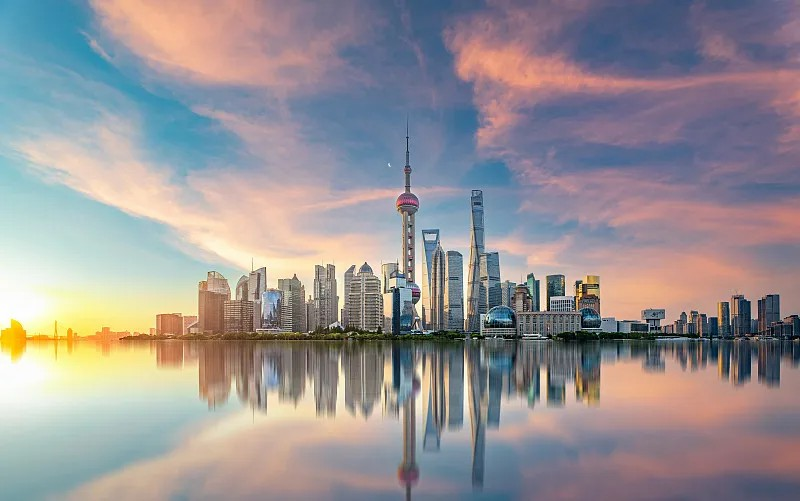Oriental: (396, 115, 421, 329)
